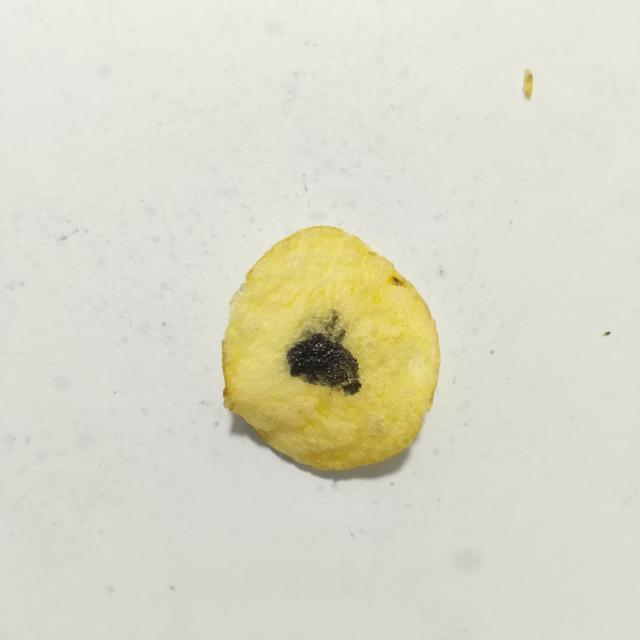chip: (222, 226, 440, 470)
damaged: (287, 333, 361, 394)
semi-damaged: (287, 309, 346, 349), (392, 277, 402, 285), (329, 392, 332, 396)
